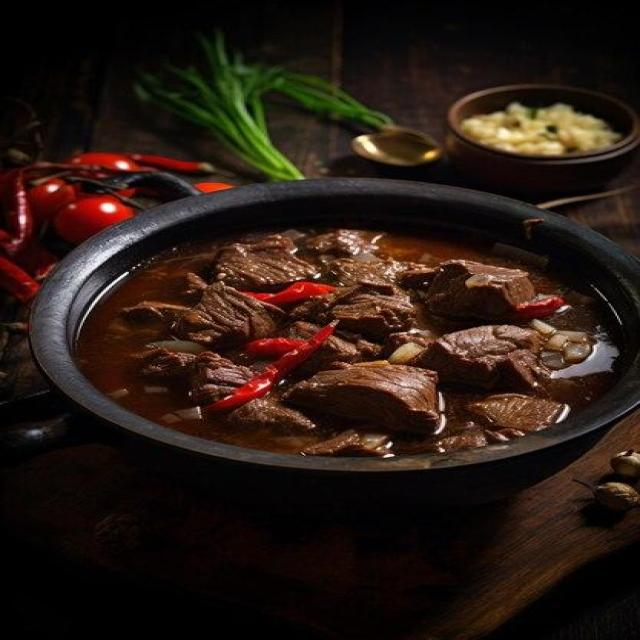Rawon: (78, 218, 603, 458)
